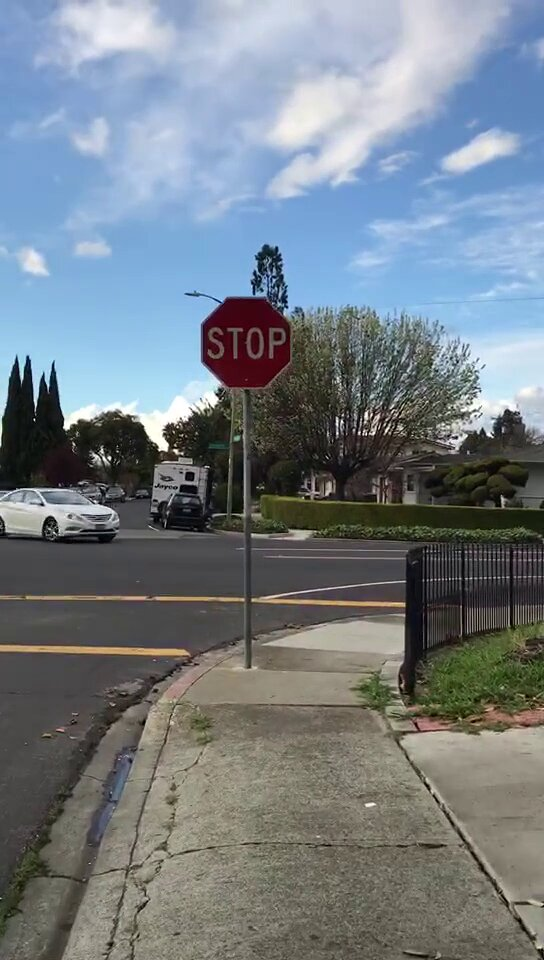stop_sign: (200, 294, 292, 386)
